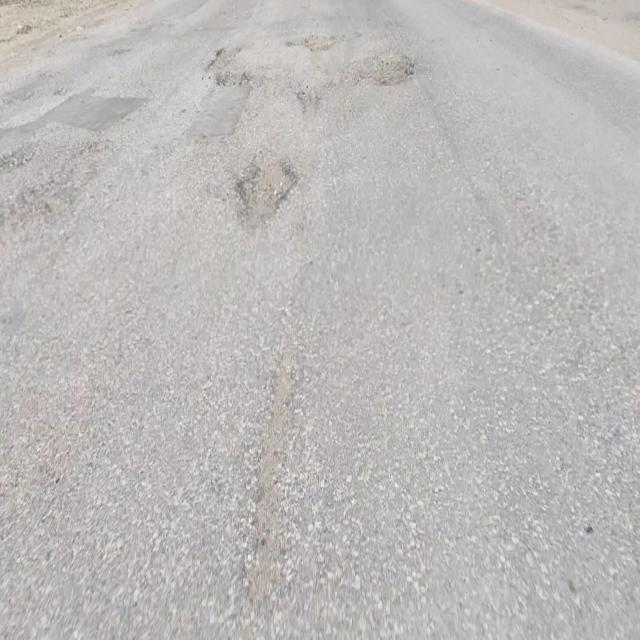Potholes: (235, 157, 296, 224), (357, 48, 416, 86), (206, 44, 251, 90)
